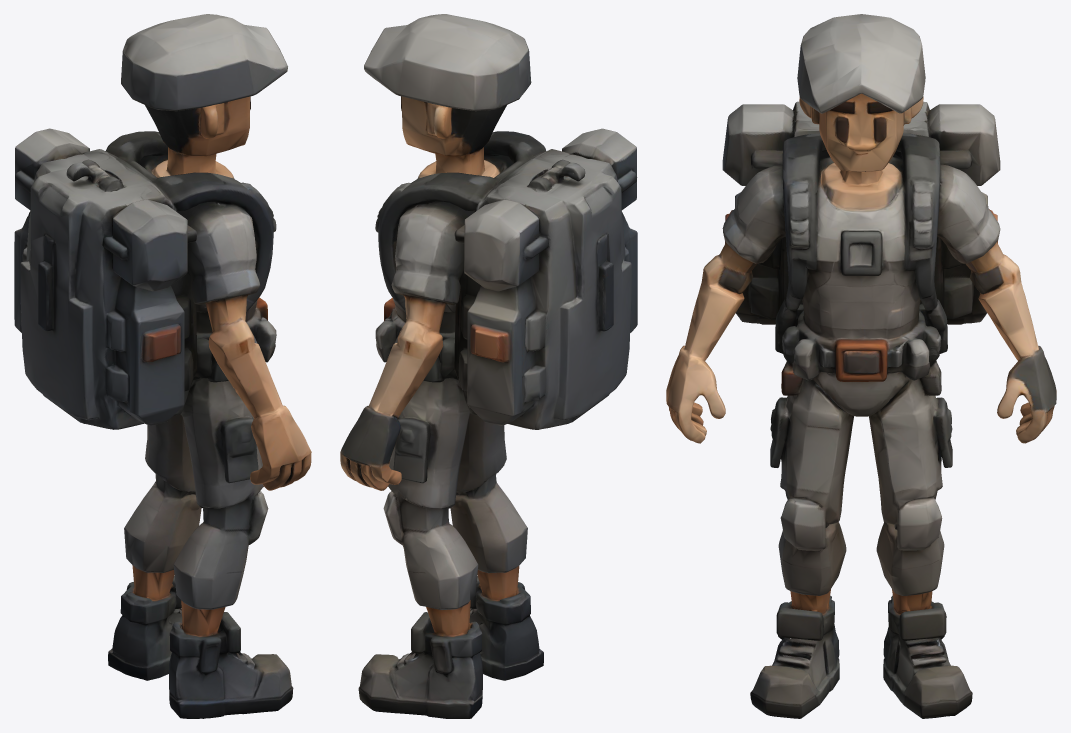
Rendered from npc-traveler.glb.
3 renders of one model, left to right at view 1: azimuth 30°, elevation 25°; view 2: azimuth 150°, elevation 25°; view 3: azimuth 270°, elevation 25°, orthographic.
Visible parts, largest first — view 1: tripo_node_fa6da5f0-621c-43a7-847d-30ce2b7d91af; view 2: tripo_node_fa6da5f0-621c-43a7-847d-30ce2b7d91af; view 3: tripo_node_fa6da5f0-621c-43a7-847d-30ce2b7d91af.
Boxes of the visible parts, bbox=[...] form: tripo_node_fa6da5f0-621c-43a7-847d-30ce2b7d91af: bbox=[14, 14, 311, 718]; tripo_node_fa6da5f0-621c-43a7-847d-30ce2b7d91af: bbox=[340, 14, 637, 718]; tripo_node_fa6da5f0-621c-43a7-847d-30ce2b7d91af: bbox=[666, 14, 1056, 718].
Bounding box in the file's own units: 0.6476 × 1.8 × 0.9568.
1 material, 1 textured.
